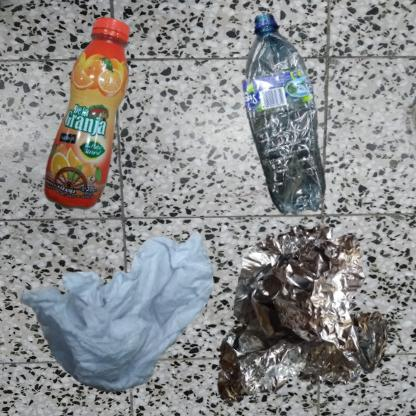aluminio: (213, 213, 403, 416)
botella: (10, 10, 225, 293), (213, 10, 378, 246)
papel: (10, 213, 223, 405)
